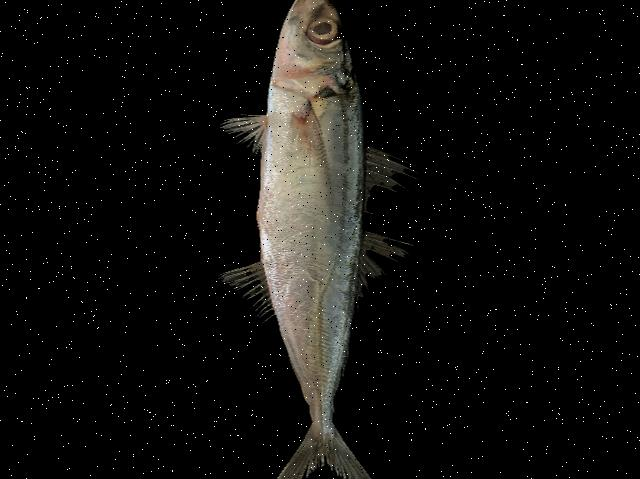Mulut: (281, 0, 332, 15)
Sirip Anal: (222, 252, 296, 348)
Sirip Dada: (290, 99, 335, 234)
Sirip Ekor: (242, 418, 399, 479)
Sirip Perut: (214, 97, 279, 166)
Sirip Punggung: (332, 128, 434, 322)
